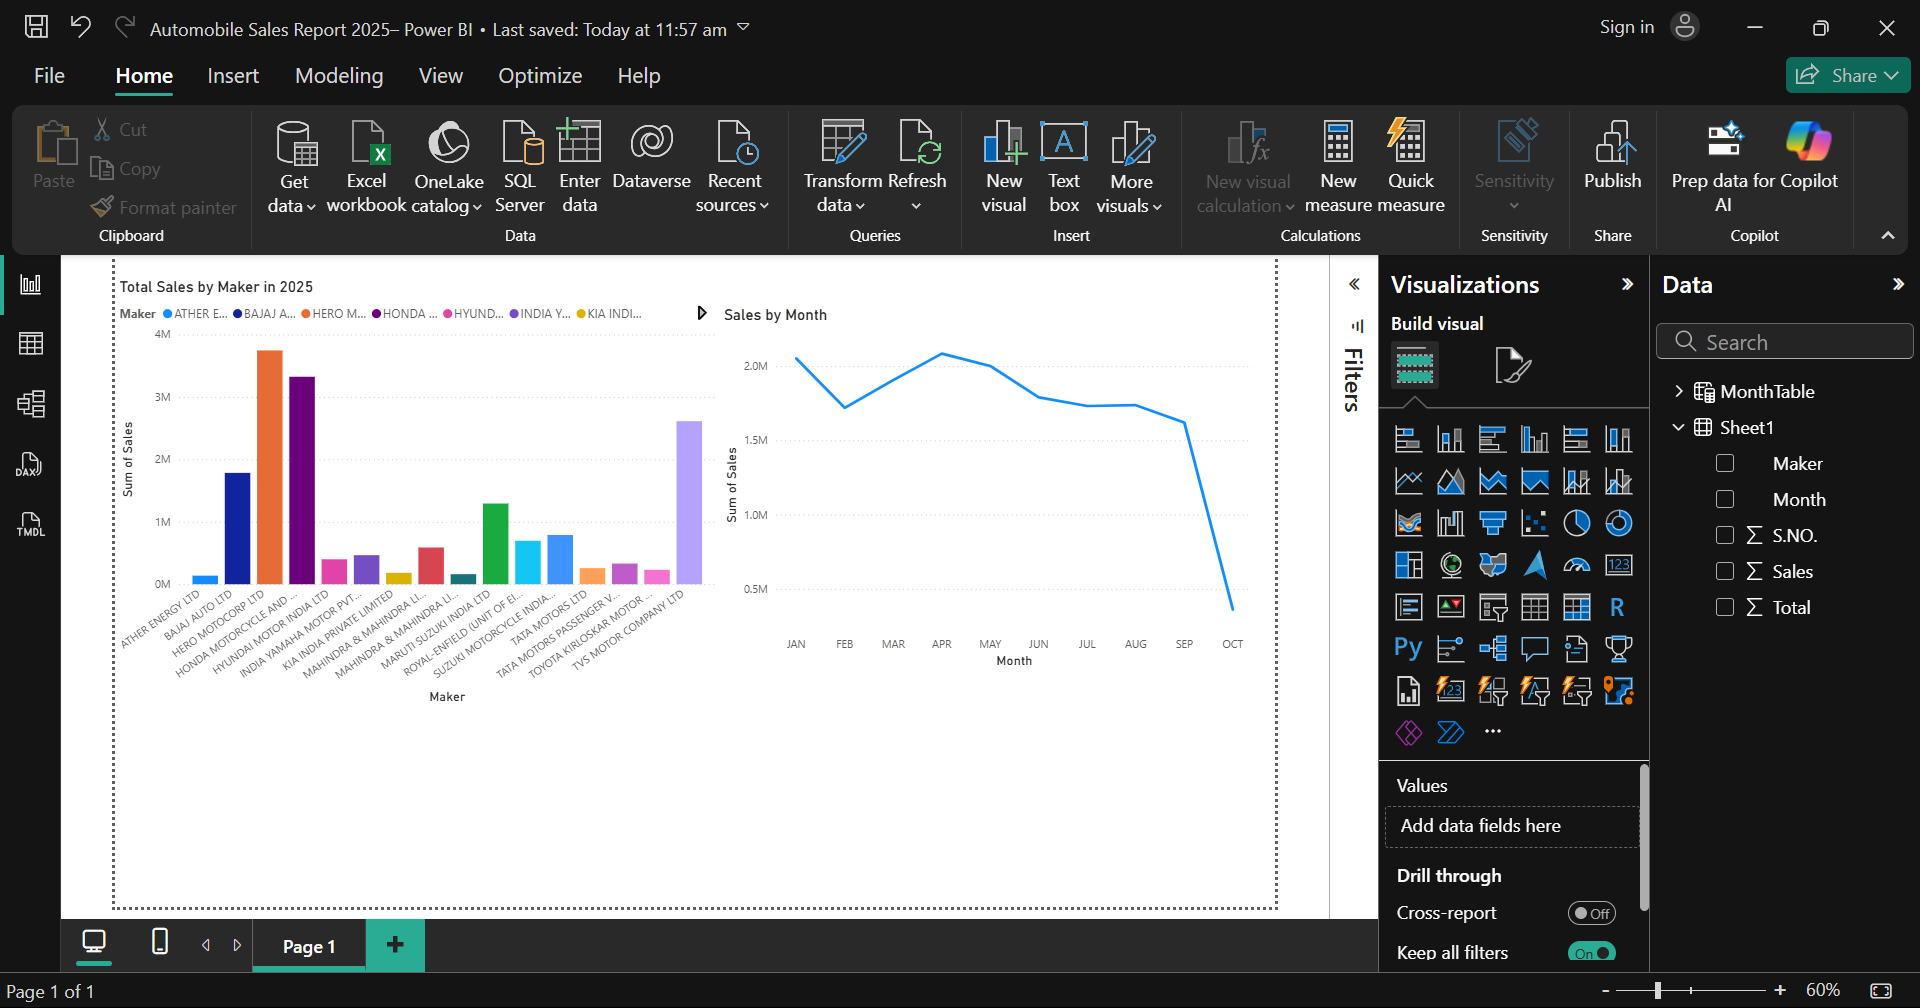

The dashboard page shown, as its layout file describes it:
{"tool":"powerbi","page":{"name":"Page 1","canvas":[1280,720],"ordinal":0},"visuals":[{"type":"clusteredColumnChart","fields":{"Category":["Sheet1.Maker","Sheet1.Month"],"Y":["Sum(Sheet1.Sales)"]},"box":[146.1,13.5,587.6,331.5],"z":0},{"type":"lineChart","fields":{"Y":["Sum(Sheet1.Sales)"],"Category":["MonthTable.Month"]},"box":[146.7,392.2,586.7,327.8],"z":1000}]}

Visuals, with their boxes on the page's 1280x720 design canvas (x1, y1, x2, y2). These are canvas units, not pixel positions in the 1920x1008 screenshot, which may show the page scaled, cropped or inside an application window:
clusteredColumnChart - Sheet1.Maker x Sheet1.Month: <region>146, 14, 734, 345</region>
lineChart - Sum(Sheet1.Sales) x MonthTable.Month: <region>147, 392, 733, 720</region>
